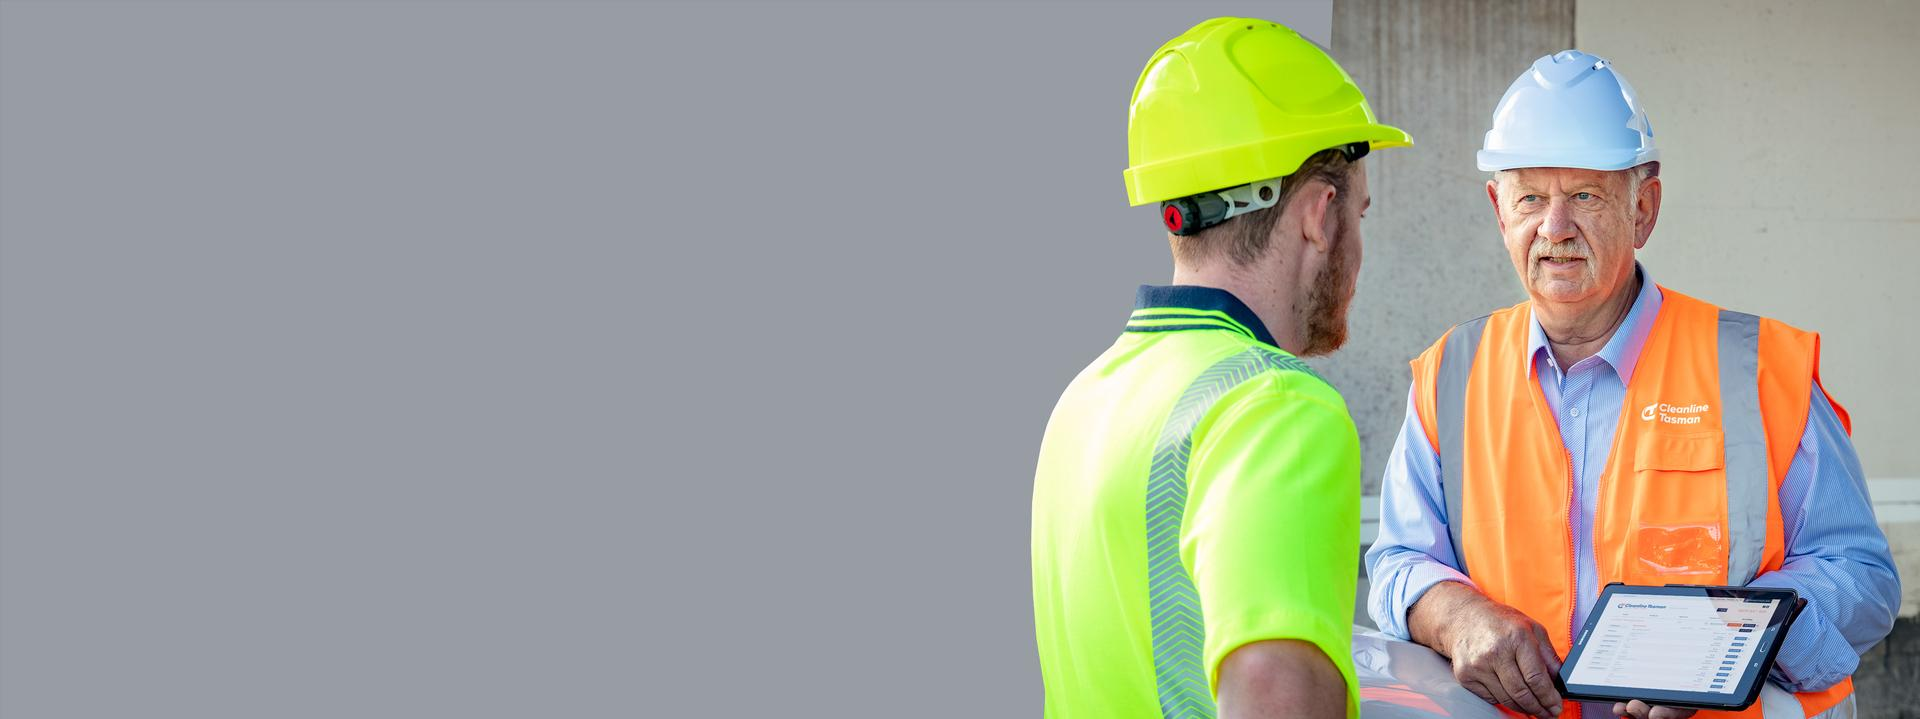helmet: (1124, 15, 1416, 227), (1473, 48, 1660, 181)
